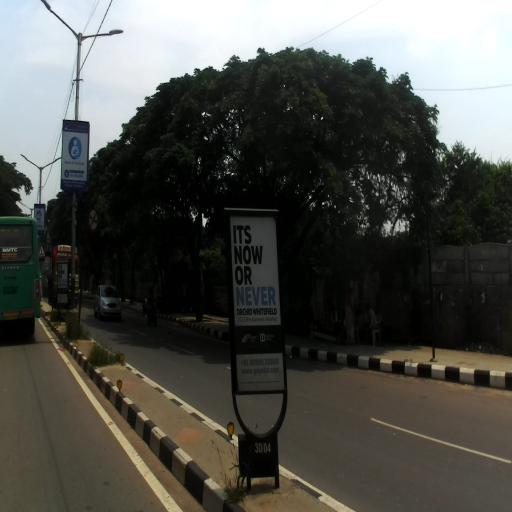street_light_0: (40, 2, 83, 43), (78, 29, 124, 49), (39, 156, 62, 174), (20, 153, 42, 171), (16, 198, 34, 214)
